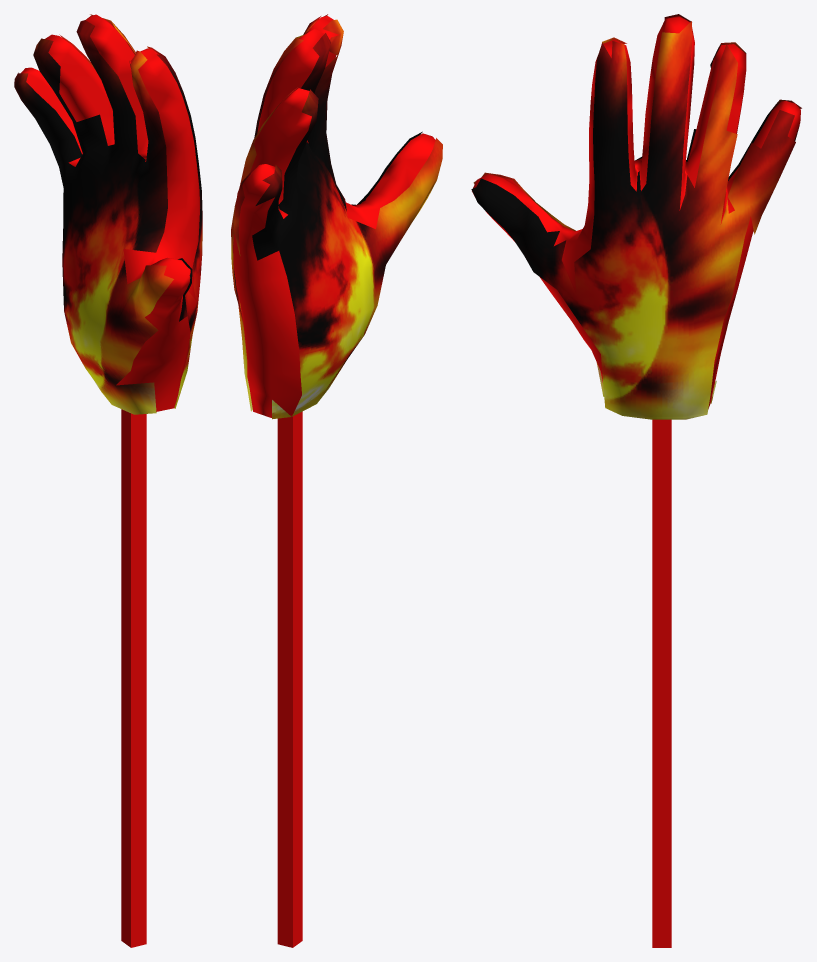
File: Slap_13.obj
3 views of the same model, side by side, from view 1: azimuth 30°, elevation 25°; view 2: azimuth 150°, elevation 25°; view 3: azimuth 270°, elevation 25° (orthographic).
Parts seen in each view (by area): view 1: Hand2, Hand1, Handle1, Hand3; view 2: Hand2, Hand1, Handle1, Hand3; view 3: Hand3, Hand1, Handle1, Hand2.
Part boxes in pixels (x1,y1,x2,y2): Hand2: (14, 20, 173, 414); Hand1: (21, 14, 200, 411); Handle1: (121, 409, 146, 947); Hand3: (59, 14, 202, 408); Hand2: (252, 19, 442, 419); Hand1: (233, 16, 435, 417); Handle1: (277, 411, 302, 947); Hand3: (231, 14, 422, 411); Hand3: (471, 21, 795, 419); Hand1: (472, 16, 800, 408); Handle1: (652, 419, 671, 947); Hand2: (473, 14, 801, 403).
Size of the model in its own units: 1.21 by 9.03 by 2.97.
Materials: 2 (1 with a texture image).
